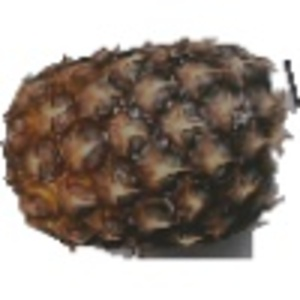abacaxi: (1, 35, 286, 252)
